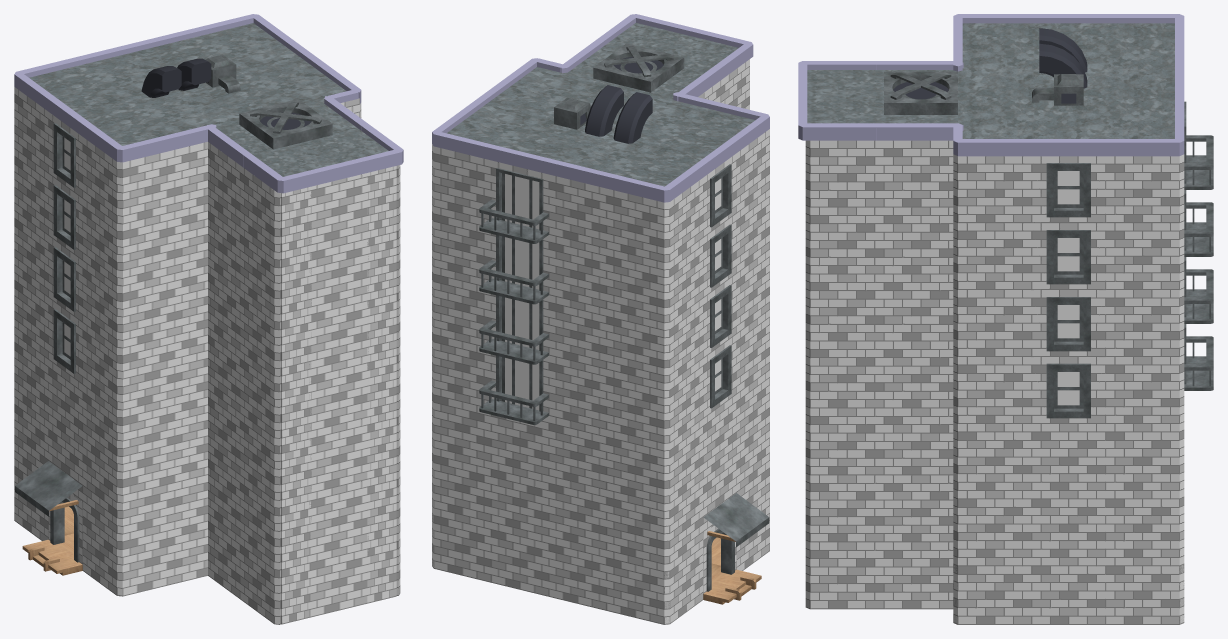
Rendered from Foyer2.fbx.
3 views of the same model, side by side, from view 1: azimuth 30°, elevation 25°; view 2: azimuth 150°, elevation 25°; view 3: azimuth 270°, elevation 25° (orthographic). The views are drawn at different scales.
Visible parts, largest first — view 1: wall (×65), roof_flatCenter (×2), window_closed (×4), roof_flatCorner (×5), roof_flatSide (×5), detail_ventLarge, awning_single%, arch_half (×2), porch_floorSteps, doorway_wideRounded, detail_ventSmall; view 2: wall (×41), roof_flatCenter (×2), window_largeVertical (×4), window_closed (×4), balcony_basic (×4), roof_flatCorner (×5), roof_flatSide (×5), detail_ventLarge, arch_half (×2), awning_single%, porch_floorSteps, doorway_wideRounded (+1 smaller); view 3: wall (×31), roof_flatCenter (×2), window_closed (×4), roof_flatCorner (×5), roof_flatSide (×5), balcony_basic (×4), detail_ventLarge, arch_half (×2), detail_ventSmall.
Part boxes in pixels (bbox=[...]): wall (×65): bbox=[14, 87, 396, 624]; roof_flatCenter (×2): bbox=[29, 23, 388, 176]; window_closed (×4): bbox=[48, 112, 82, 384]; roof_flatCorner (×5): bbox=[14, 14, 403, 193]; roof_flatSide (×5): bbox=[48, 28, 361, 167]; detail_ventLarge: bbox=[239, 99, 332, 149]; awning_single%: bbox=[15, 461, 82, 516]; arch_half (×2): bbox=[141, 58, 211, 97]; porch_floorSteps: bbox=[22, 539, 82, 575]; doorway_wideRounded: bbox=[48, 494, 82, 564]; detail_ventSmall: bbox=[204, 54, 240, 93]; wall (×41): bbox=[432, 59, 769, 624]; roof_flatCenter (×2): bbox=[447, 23, 755, 186]; window_largeVertical (×4): bbox=[491, 160, 548, 412]; window_closed (×4): bbox=[703, 153, 736, 418]; balcony_basic (×4): bbox=[479, 199, 548, 424]; roof_flatCorner (×5): bbox=[432, 14, 769, 202]; roof_flatSide (×5): bbox=[490, 38, 736, 188]; detail_ventLarge: bbox=[593, 43, 684, 92]; arch_half (×2): bbox=[585, 85, 652, 143]; awning_single%: bbox=[703, 493, 769, 547]; porch_floorSteps: bbox=[703, 569, 761, 604]; doorway_wideRounded: bbox=[703, 525, 736, 593]; wall (×31): bbox=[805, 140, 1184, 624]; roof_flatCenter (×2): bbox=[807, 23, 1174, 138]; window_closed (×4): bbox=[1032, 156, 1105, 423]; roof_flatCorner (×5): bbox=[798, 14, 1184, 156]; roof_flatSide (×5): bbox=[873, 14, 1108, 156]; balcony_basic (×4): bbox=[1184, 135, 1213, 390]; detail_ventLarge: bbox=[884, 71, 957, 114]; arch_half (×2): bbox=[1039, 28, 1087, 88]; detail_ventSmall: bbox=[1032, 74, 1083, 105].
Size of the model in its own units: 47.23 by 76.65 by 56.25.
Materials: 13 (8 with a texture image).
